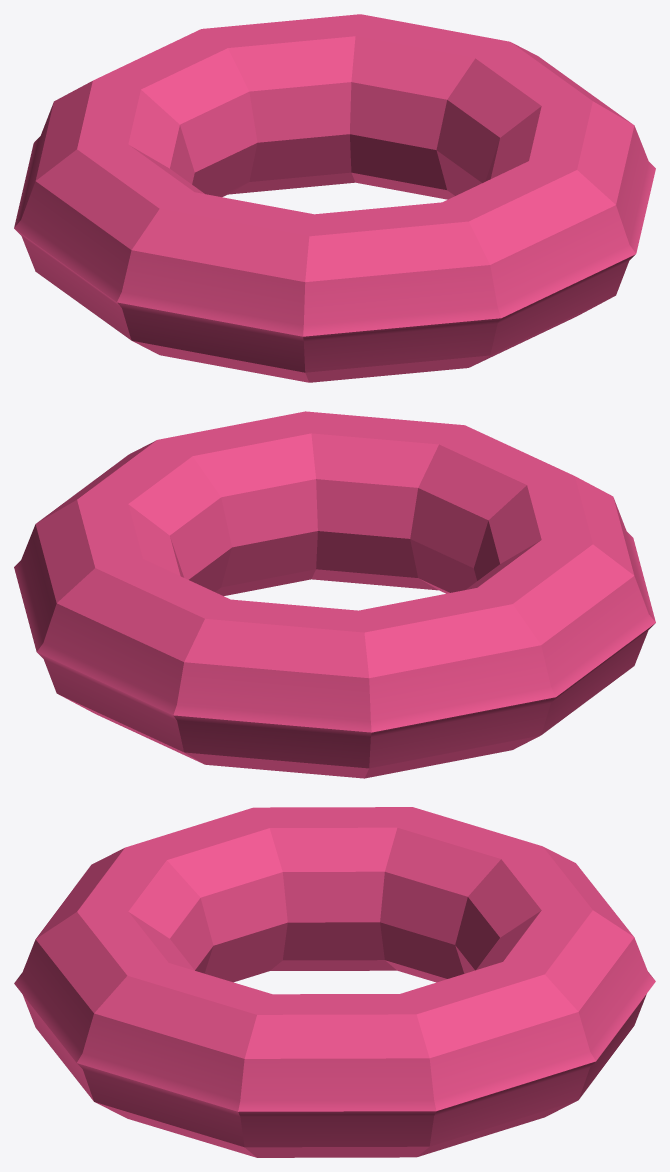
File: floaty2.fbx
The picture shows the model from 3 angles, top to bottom: view 1: azimuth 30°, elevation 25°; view 2: azimuth 150°, elevation 25°; view 3: azimuth 270°, elevation 25°; orthographic projection. The views are drawn at different scales.
Visible parts, largest first — view 1: plain_floaty2; view 2: plain_floaty2; view 3: plain_floaty2.
Boxes of the visible parts, x1,y1,x2,y2 form: plain_floaty2: (14, 14, 655, 382); plain_floaty2: (14, 411, 655, 778); plain_floaty2: (14, 807, 655, 1157).
Size of the model in its own units: 55.58 by 14.33 by 58.3.
